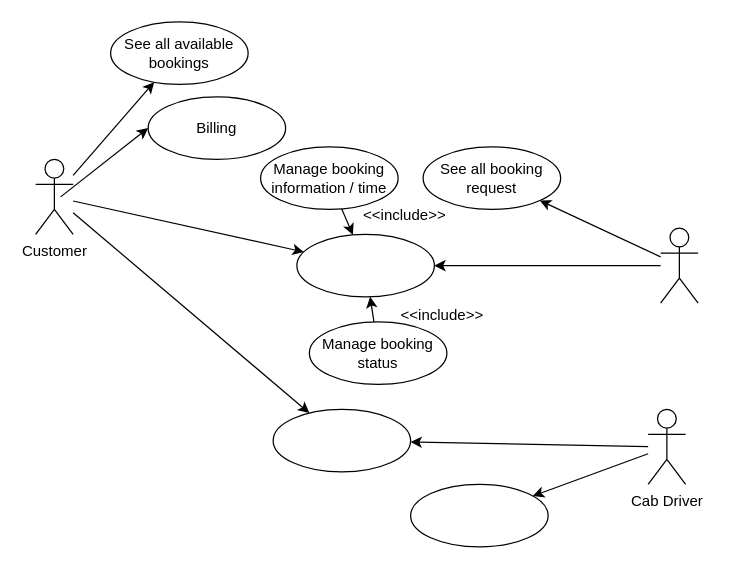
This 743x569 diagram has some shape labels left out. The box of each missing label's shape, as (x1, y1, x2, y2) in pixels:
Complete assigment: (409, 483, 548, 547)
Pickup customer: (272, 408, 411, 472)
Request booking: (296, 233, 434, 297)
Travel Agent: (659, 227, 698, 303)
